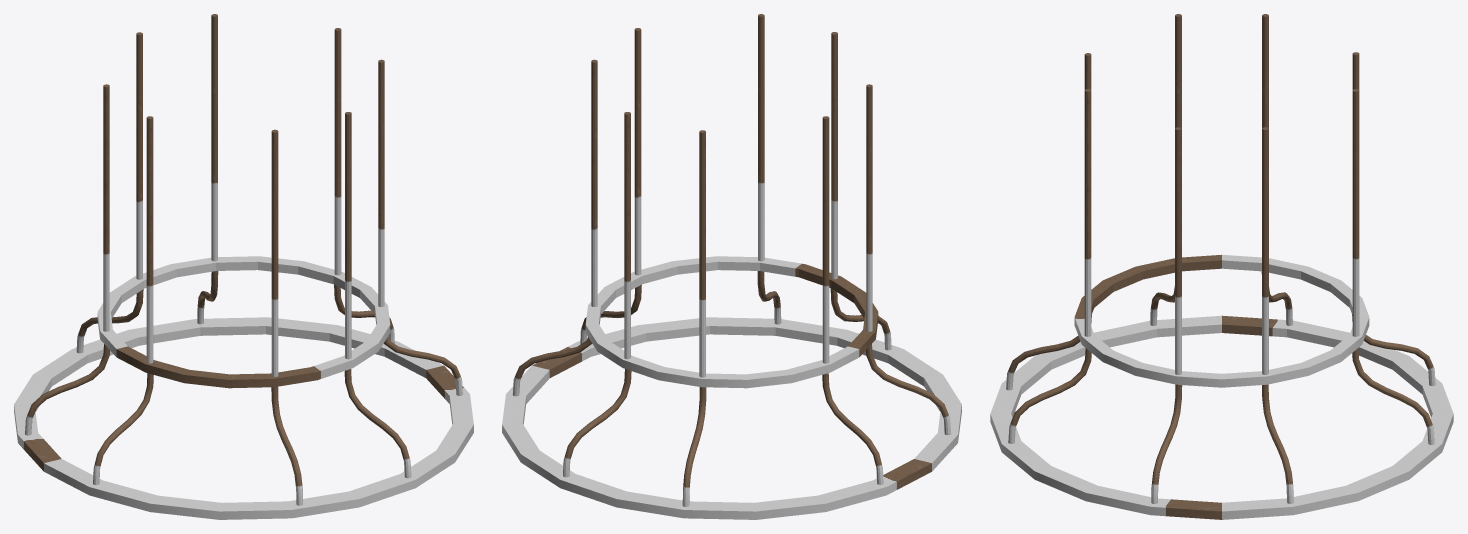
The model's file is Decor_LightingFixtureB.fbx.
3 renders of one model, left to right at view 1: azimuth 30°, elevation 25°; view 2: azimuth 150°, elevation 25°; view 3: azimuth 270°, elevation 25°, orthographic.
Parts seen in each view (by area): view 1: Decor_LightingFixtureB; view 2: Decor_LightingFixtureB; view 3: Decor_LightingFixtureB.
Part boxes in pixels (x1=…): Decor_LightingFixtureB: x1=14, y1=14, x2=473, y2=519; Decor_LightingFixtureB: x1=502, y1=14, x2=961, y2=519; Decor_LightingFixtureB: x1=990, y1=14, x2=1453, y2=519.
Bounding box in the file's own units: 157 × 131 × 157.
